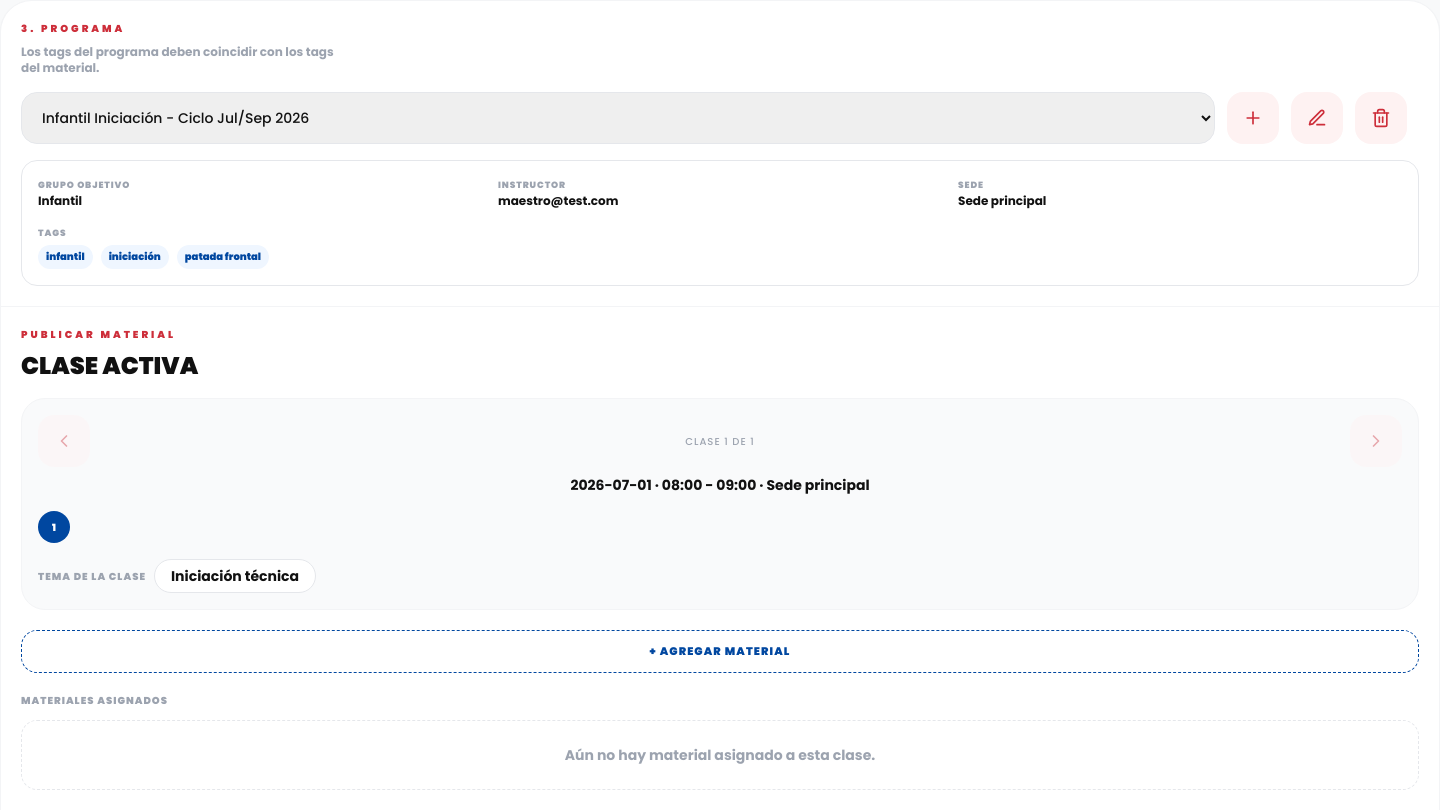
Programa academico: crear, validar y editar › bloquea Aceptar si falta el nombre del programa
Step 1. Click the button named "crear programa" → (1253,118), box [1227,92,1279,144]
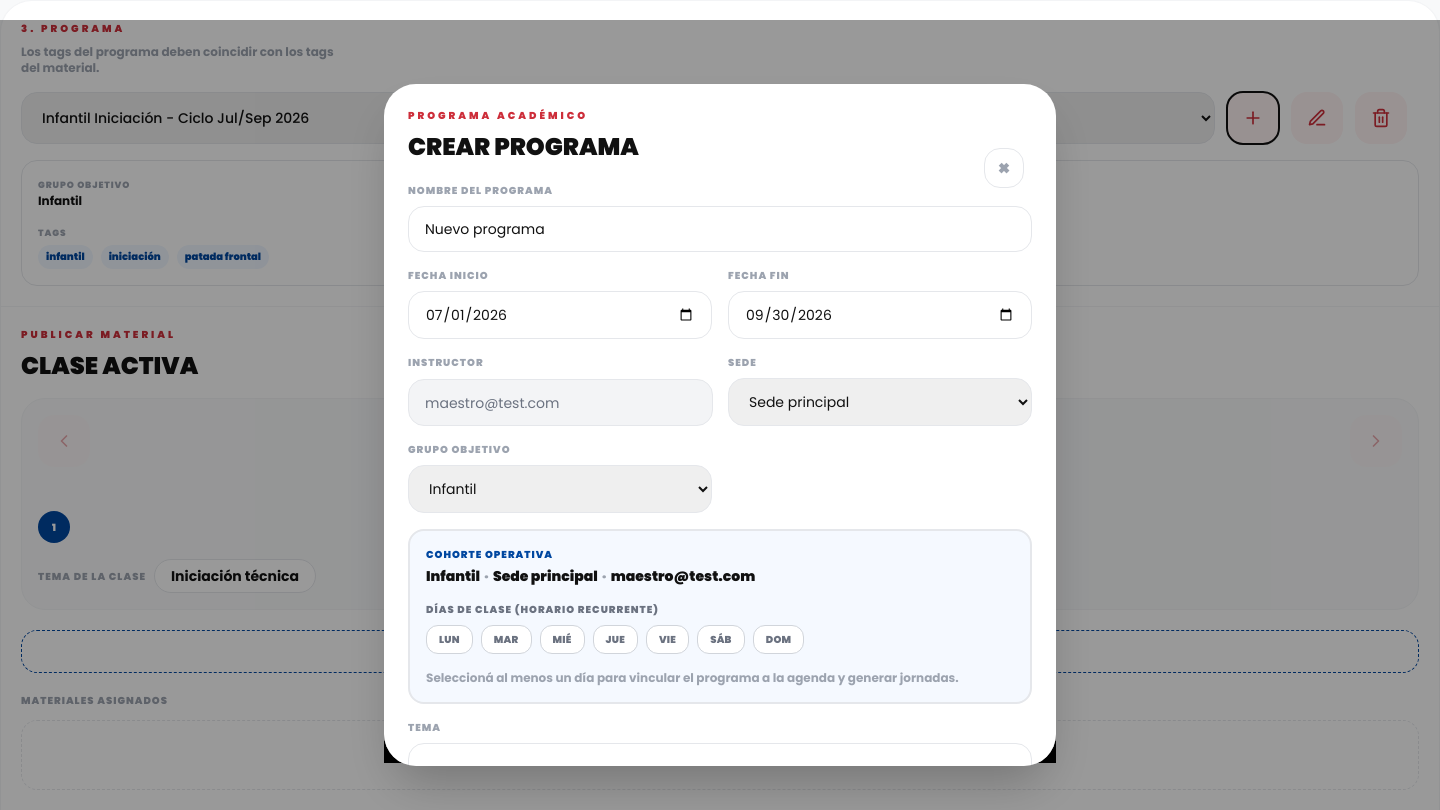
Step 2. Clear the field labelled "Nombre del programa" → (720,229), box [408,206,1032,252]
(page scrolled)
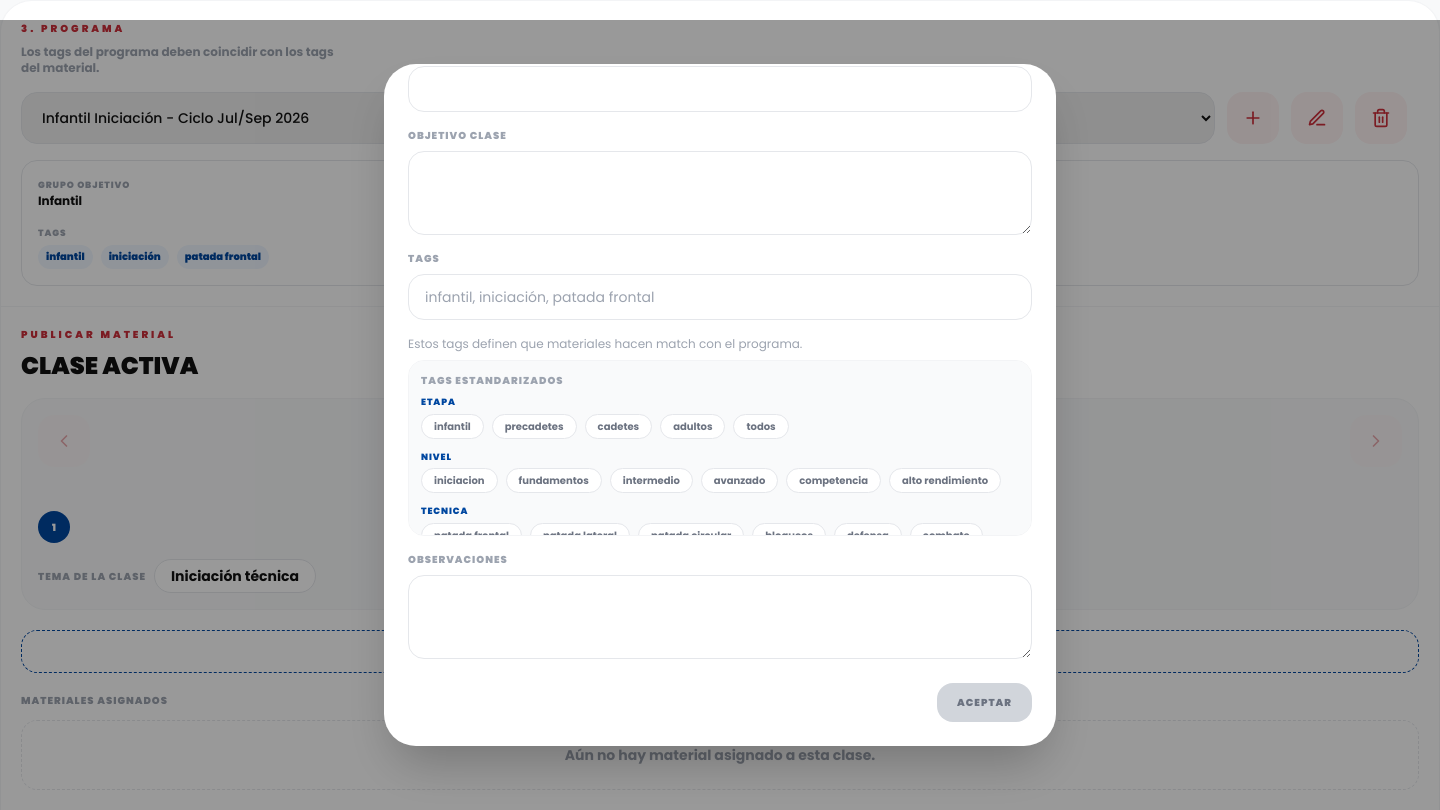
Result: the button "Aceptar" is disabled at [937,683,1032,722]
